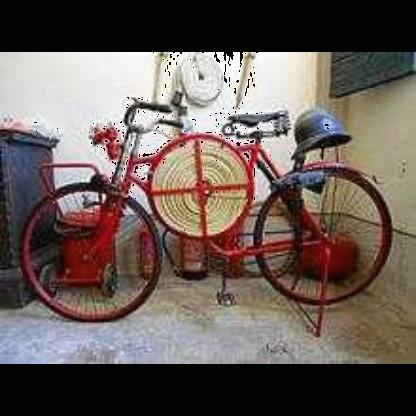Bicycle: (0, 83, 405, 334)
